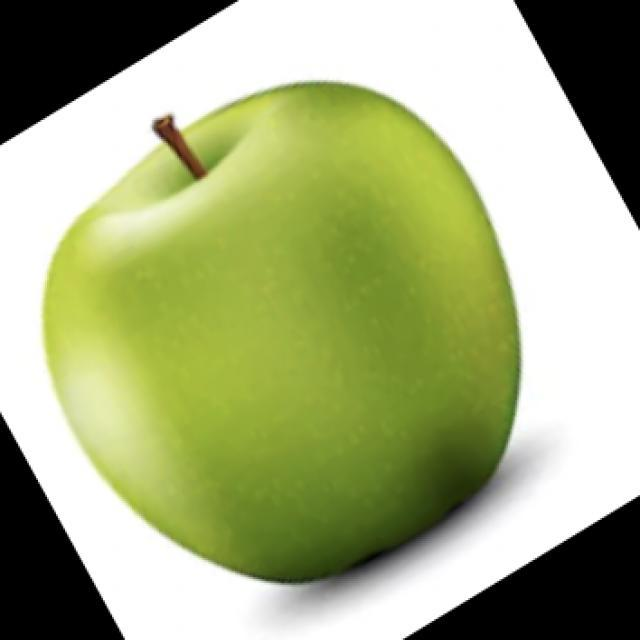Fresh Apple: (32, 73, 508, 570)
